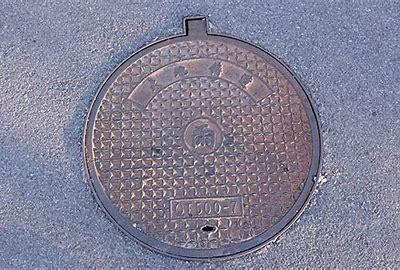wellcover: (81, 13, 331, 261)
